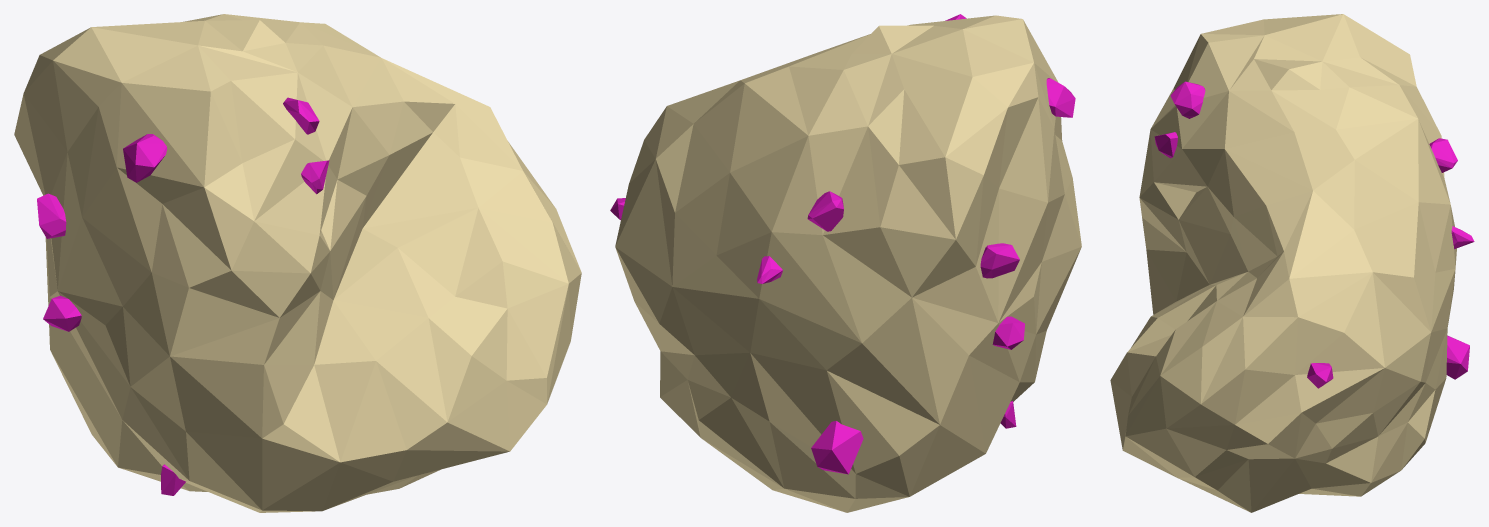
Rendered from CrystalOre (21).fbx.
The picture shows the model from 3 angles, left to right: view 1: azimuth 30°, elevation 25°; view 2: azimuth 150°, elevation 25°; view 3: azimuth 270°, elevation 25°; orthographic projection. The views are drawn at different scales.
Visible parts, largest first — view 1: Asteroid241; view 2: Asteroid241; view 3: Asteroid241.
Part boxes in pixels (x1,y1,x2,y2): Asteroid241: [14, 14, 581, 512]; Asteroid241: [610, 14, 1081, 512]; Asteroid241: [1110, 14, 1474, 512].
Size of the model in its own units: 612 by 625 by 513.
